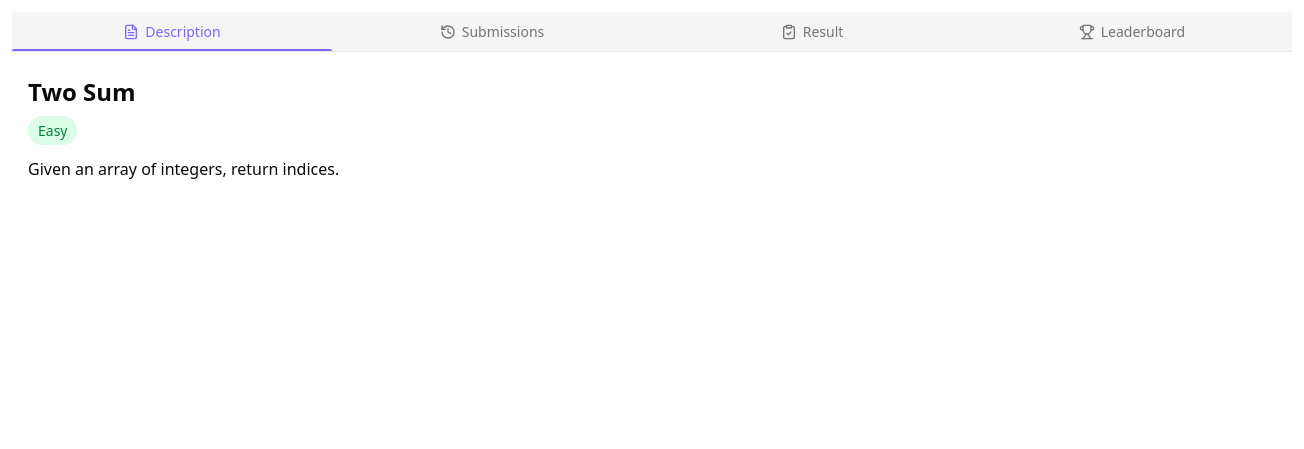
Test: CodeDescArea — submission detail view › shows "No additional output" when no output fields
Check: the element with test id "tabs-list" is shown, box [12, 12, 1292, 52]
Click the tab "Submissions" at (492, 32), box [332, 12, 652, 51]
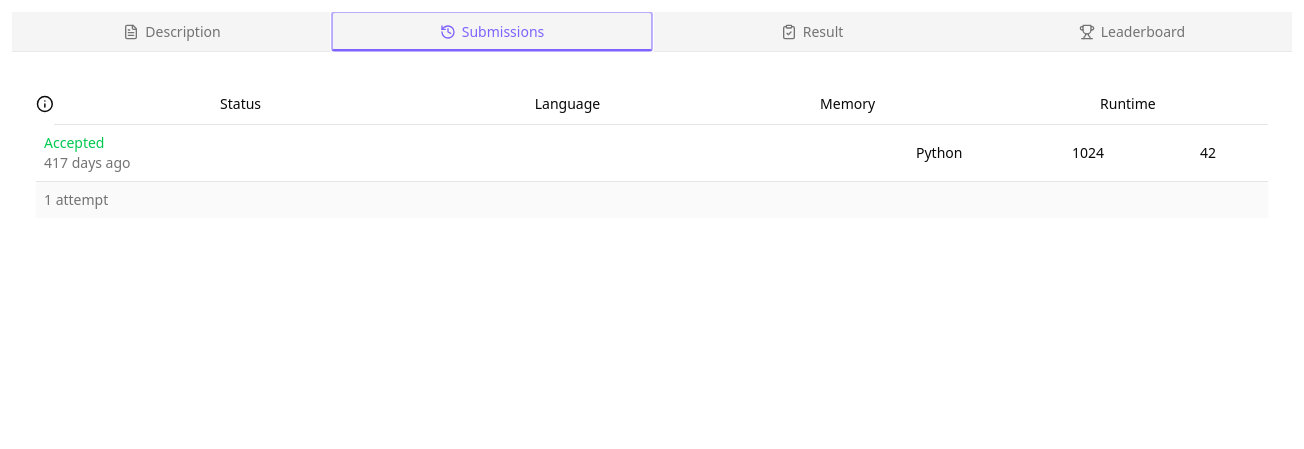
Check: the row with test id "submission-1" is shown
Click the row with test id "submission-1" at (74, 142), box [36, 124, 1268, 180]
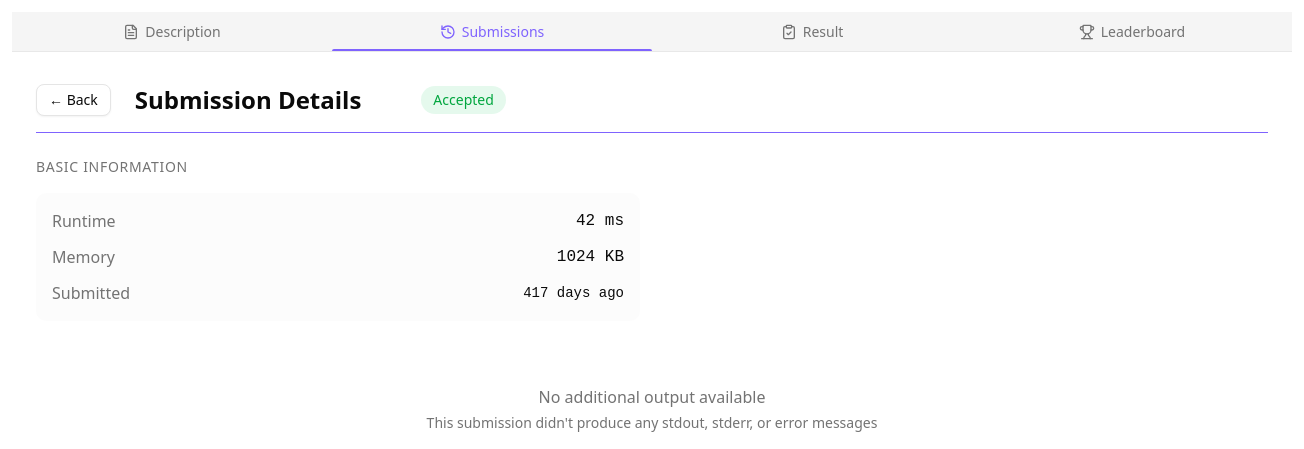
Check: the text "No additional output available" is shown, box [539, 385, 765, 409]
